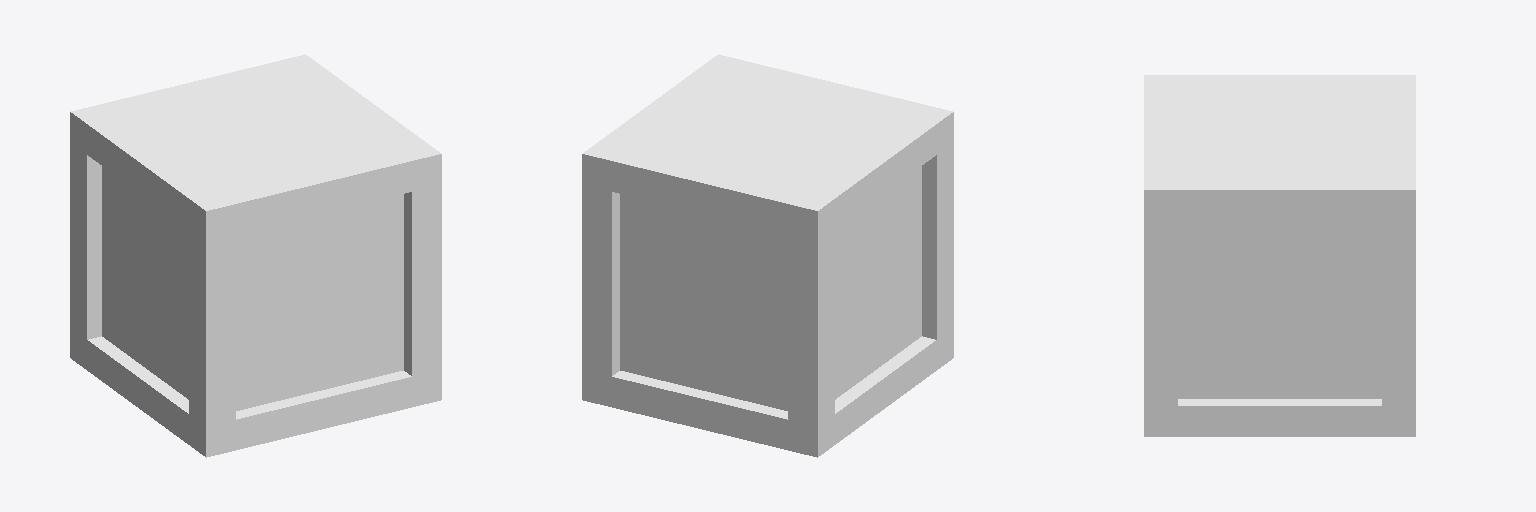
Rendered from destructibleBox.obj.
3 renders of one model, left to right at view 1: azimuth 30°, elevation 25°; view 2: azimuth 150°, elevation 25°; view 3: azimuth 270°, elevation 25°, orthographic.
Size of the model in its own units: 16 by 16 by 16.